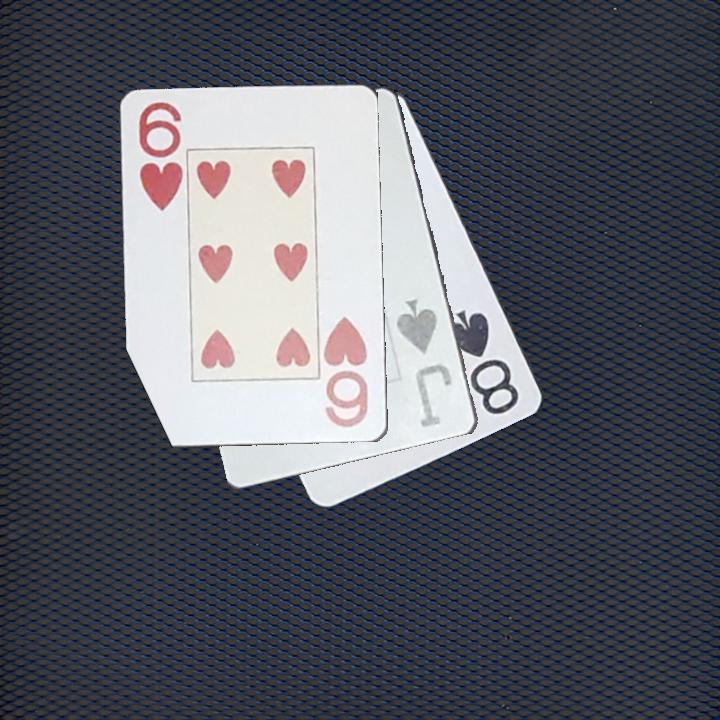6h: (322, 313, 372, 431), (135, 99, 184, 214)
8s: (444, 305, 523, 418)
Js: (393, 296, 456, 432)
